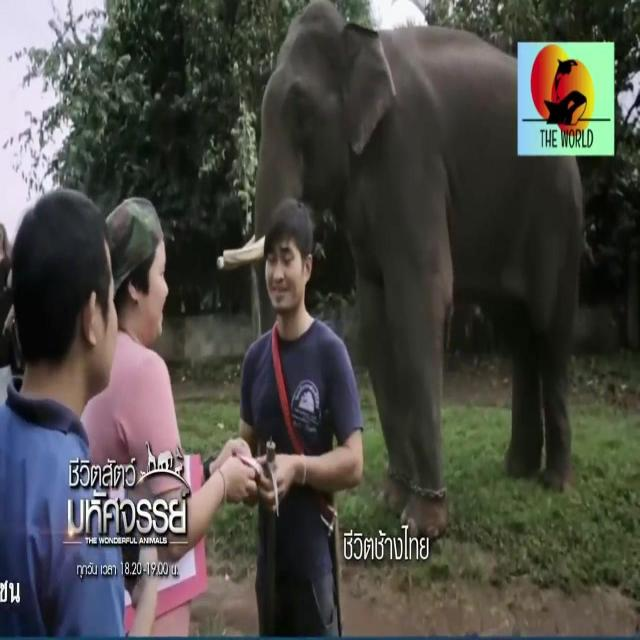Elephant: (216, 4, 521, 323)
